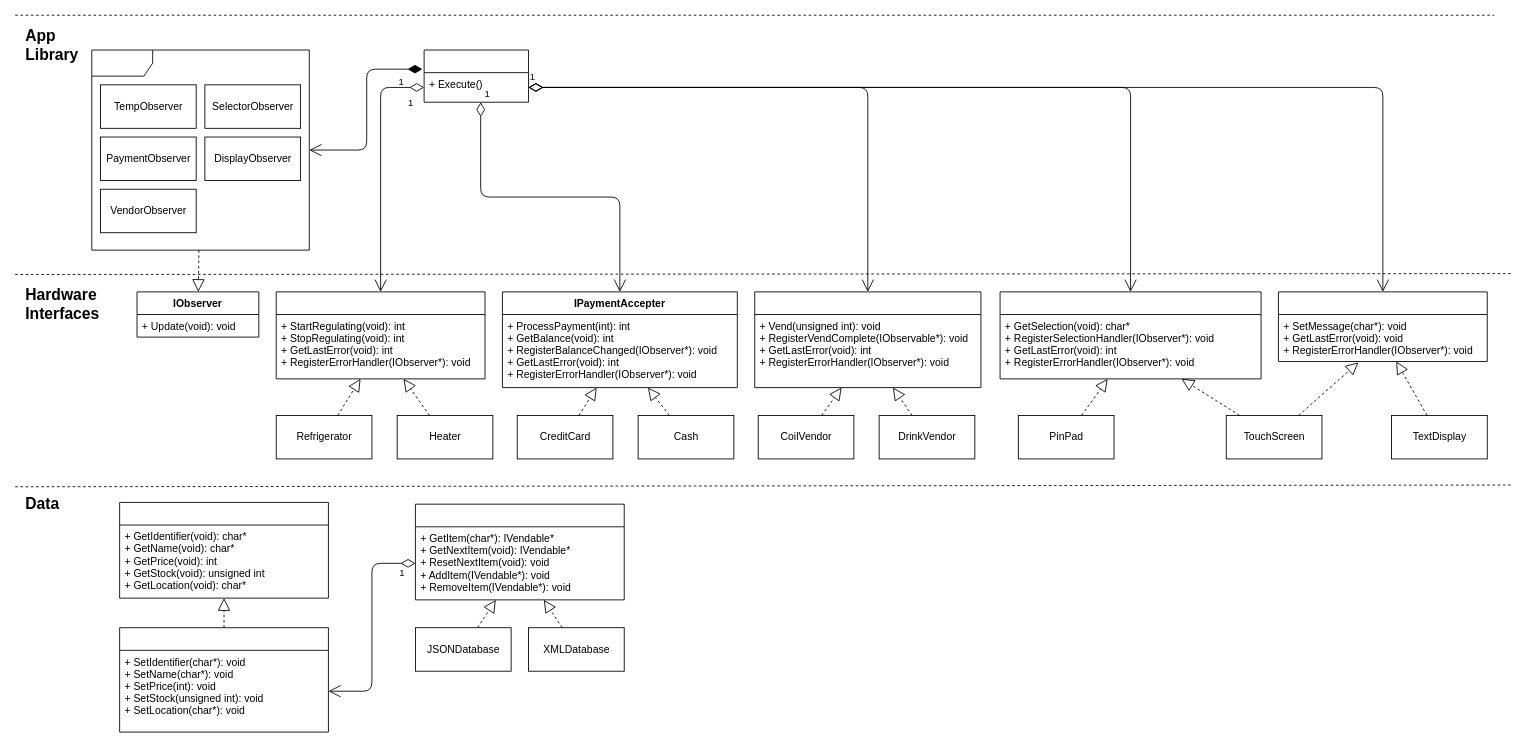
The diagram is 1528 pixels wide and 750 high, and some of its shapes have lost their labels. The shapes that lost their labels are listed below. From the top down, each one's box as (x1, y1, x2, y2) in pixels, then its label:
(423, 49, 529, 102): VendingMachine
(91, 49, 309, 250): Observers
(275, 291, 485, 379): ITemperatureController
(754, 291, 981, 388): IVendor
(999, 291, 1261, 379): ISelector
(1278, 291, 1487, 361): IMessageDisplay
(119, 502, 328, 598): IVendable
(415, 503, 624, 600): IVendableDatabase
(119, 627, 328, 732): IModifiableVendable
